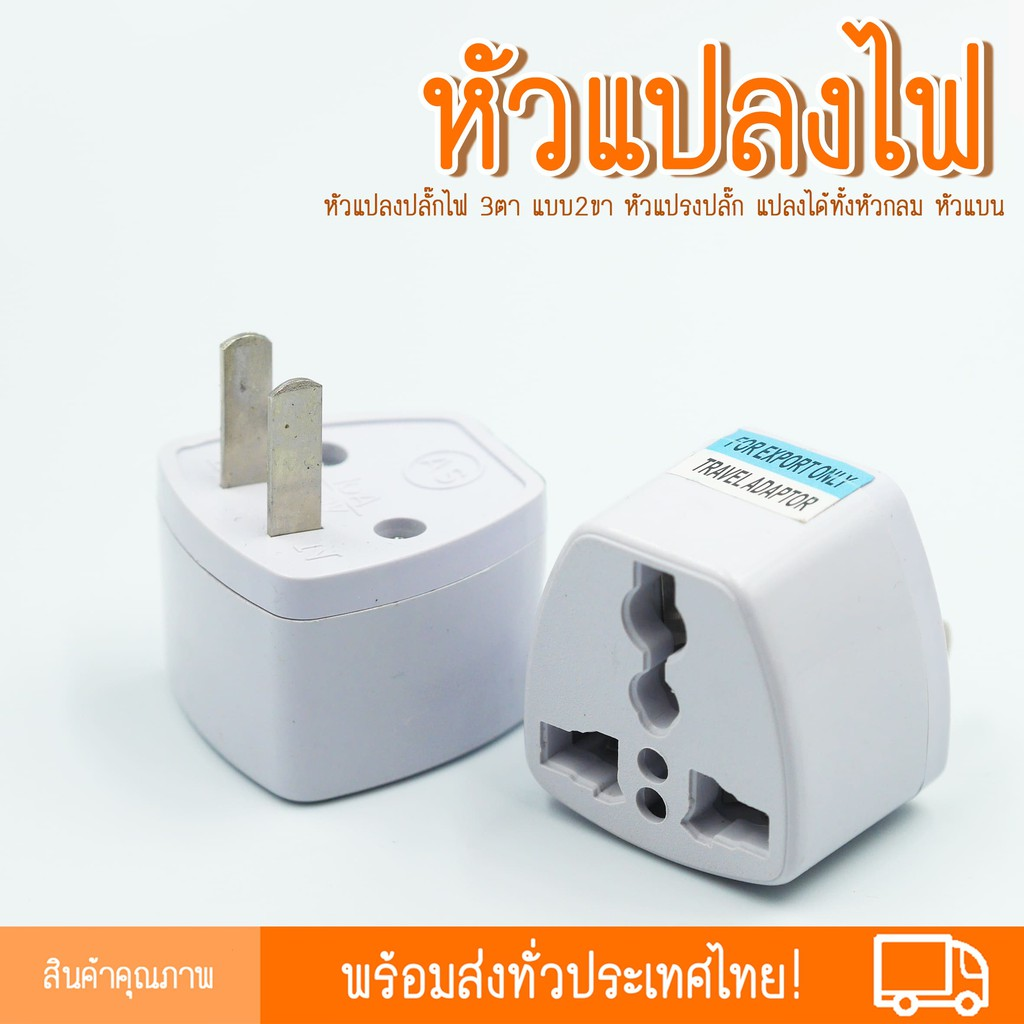Three_eye_plug: (144, 314, 573, 818), (518, 423, 964, 906)
